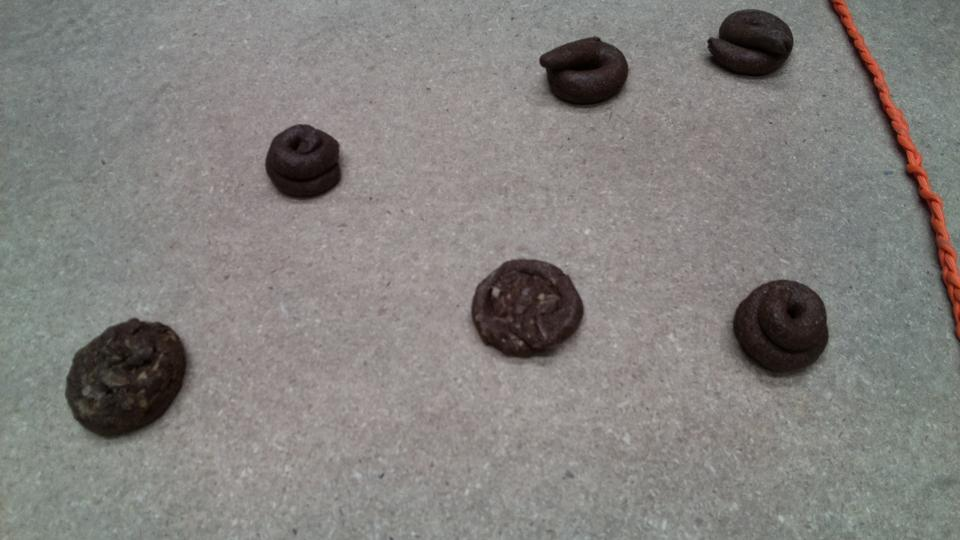poop: (62, 309, 190, 443), (469, 255, 588, 363), (730, 275, 834, 381), (535, 31, 634, 111), (700, 6, 796, 84), (261, 119, 343, 204)
rope: (840, 1, 959, 337)
